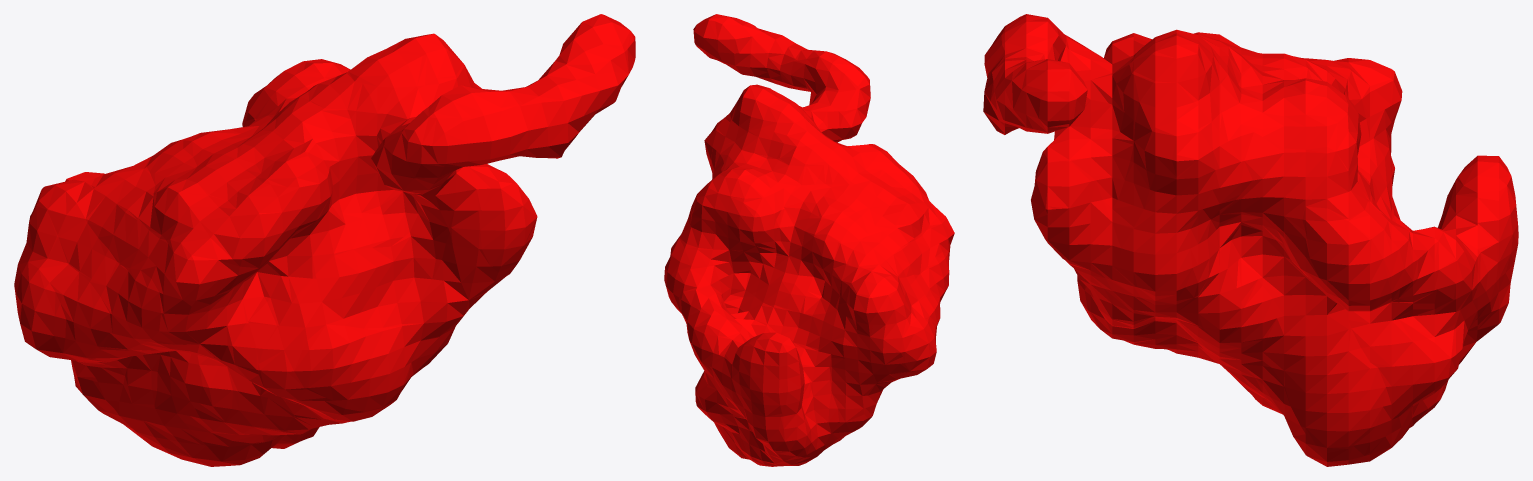
The model's file is dctA_coarse.dae.
The picture shows the model from 3 angles, left to right: view 1: azimuth 30°, elevation 25°; view 2: azimuth 150°, elevation 25°; view 3: azimuth 270°, elevation 25°; orthographic projection. The views are drawn at different scales.
Visible parts, largest first — view 1: dctA; view 2: dctA; view 3: dctA.
Part boxes in pixels (<box>): dctA: <box>14,14,635,466</box>; dctA: <box>664,14,954,466</box>; dctA: <box>983,14,1518,466</box>.
Bounding box in the file's own units: 73.98 × 71.83 × 71.55.
